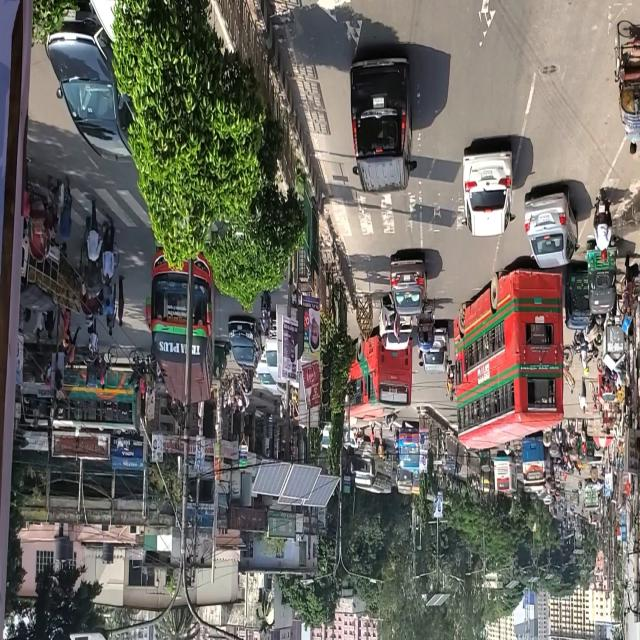black: (44, 8, 138, 162), (349, 52, 413, 192), (227, 315, 262, 365)
silver: (462, 147, 514, 237), (524, 188, 578, 264)
